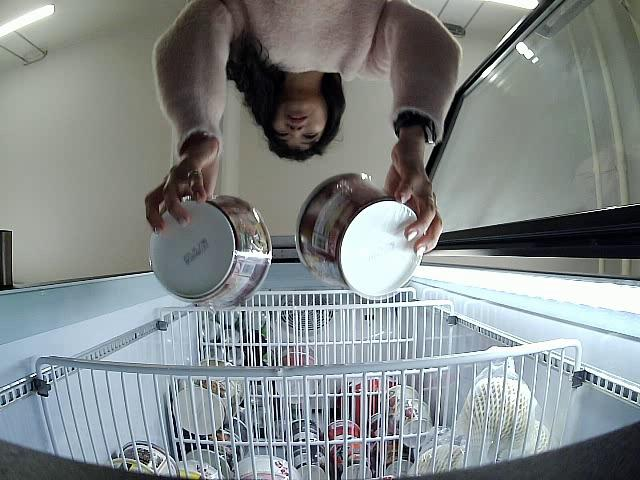00_hand: (382, 142, 445, 258), (142, 144, 220, 236)
05_nuguri_L: (295, 170, 424, 301), (149, 196, 274, 309)
